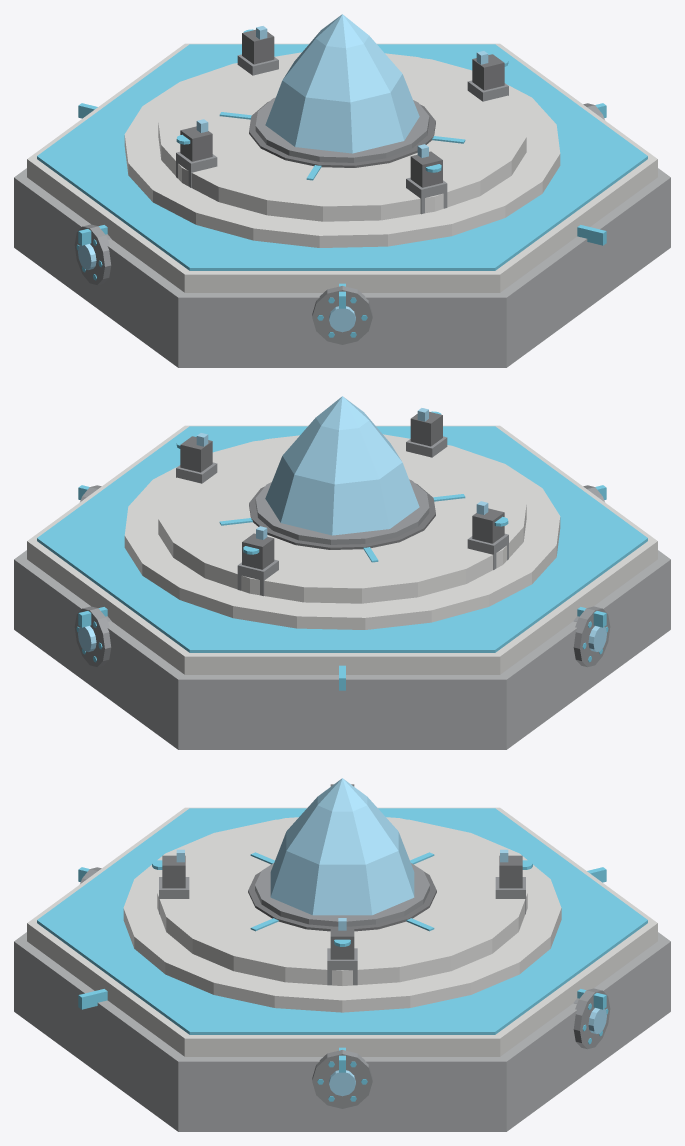
Rendered from shield_emitter_s2_100.glb.
3 renders of one model, top to bottom at view 1: azimuth 30°, elevation 25°; view 2: azimuth 150°, elevation 25°; view 3: azimuth 270°, elevation 25°, orthographic.
Visible parts, largest first — view 1: ShieldEmitter_s2; view 2: ShieldEmitter_s2; view 3: ShieldEmitter_s2.
Part boxes in pixels (box(x1,y1,x2,y2)): ShieldEmitter_s2: box(14, 14, 670, 367); ShieldEmitter_s2: box(14, 396, 670, 749); ShieldEmitter_s2: box(14, 778, 670, 1131).
Bounding box in the file's own units: 3.6 × 1.53 × 3.9.
